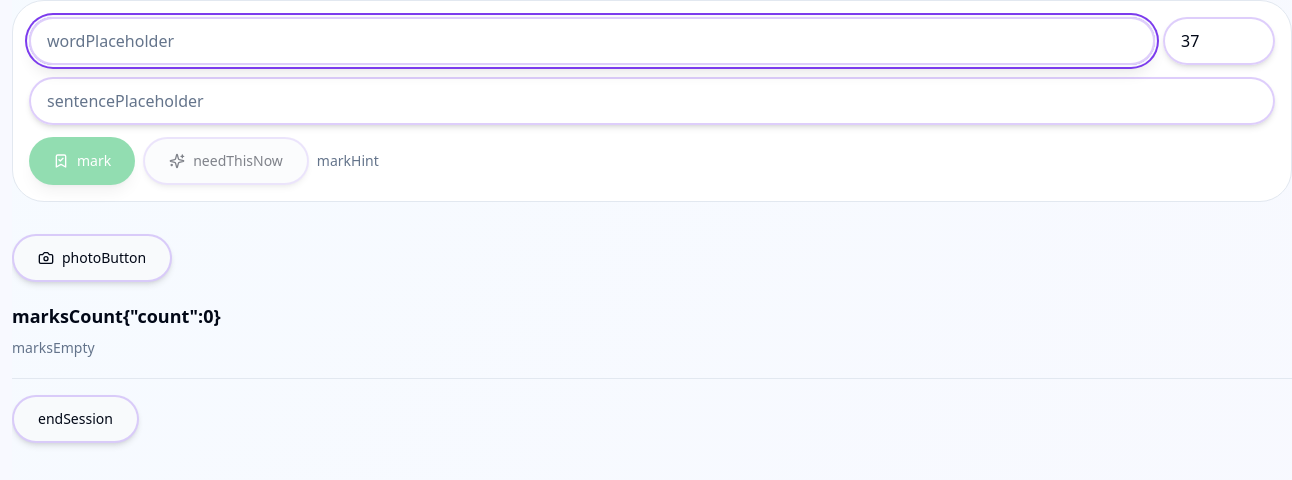
BookSession capture bar › only marks: sends the word, sentence and page and keeps the page for the next word
The width and height of the screenshot is (1292, 480).
Type " estremecí " into the field named "wordLabel" at (592, 41), box [29,17,1155,65]
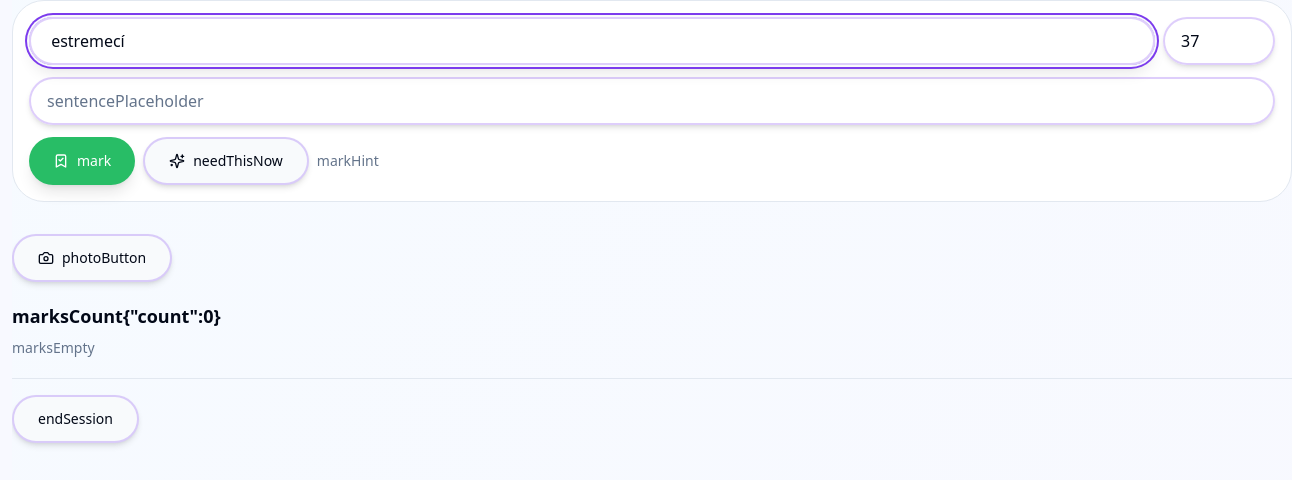
Type "Me estremecí." into the field named "sentenceLabel" at (652, 101), box [29,77,1275,125]
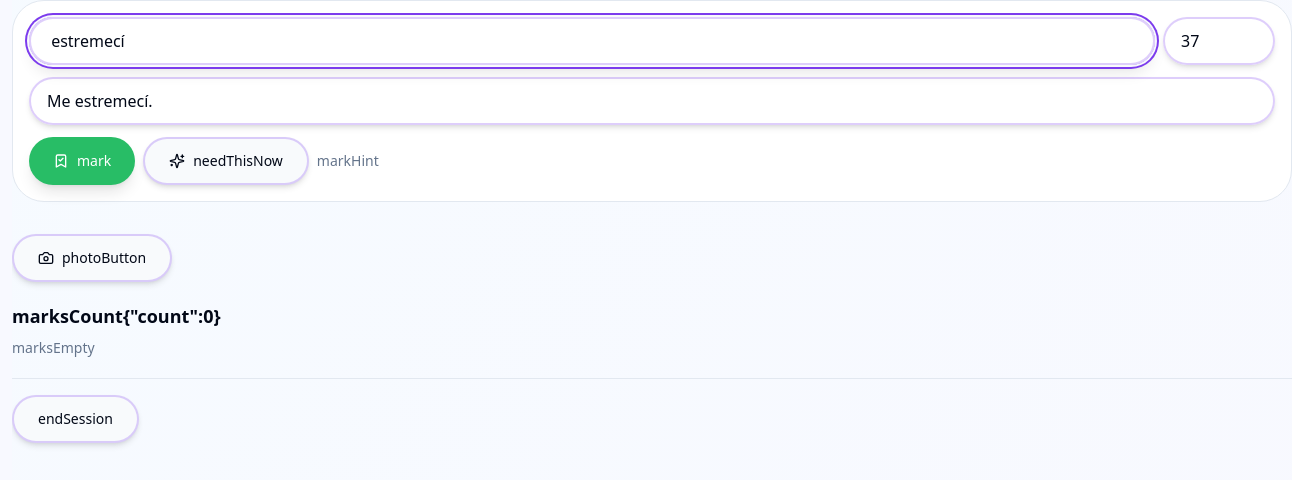
Click the button "mark" at (82, 161), box [29,137,135,185]
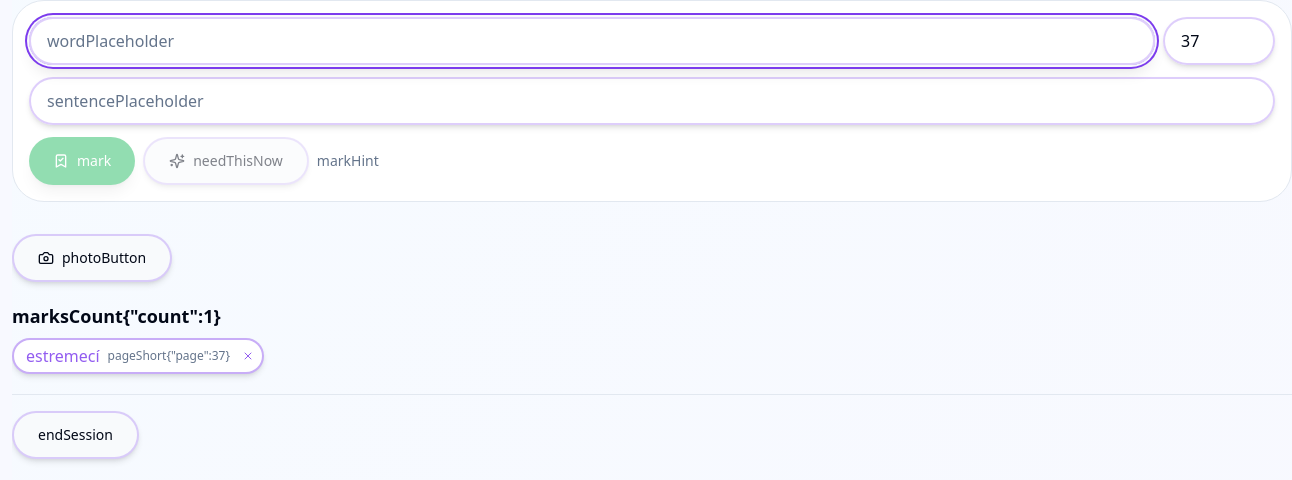
Check: the text "estremecí" is shown, box [26,344,100,368]
Check: the field named "wordLabel" is empty, box [29,17,1155,65]
Check: the field named "sentenceLabel" is empty, box [29,77,1275,125]
